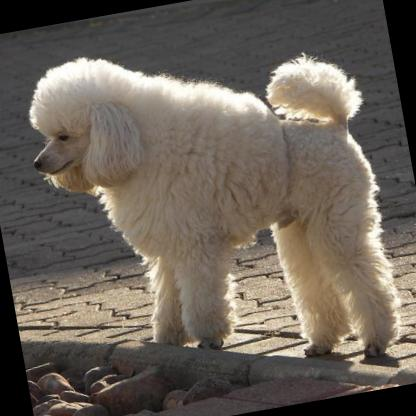toy_poodle: (14, 7, 408, 411)
